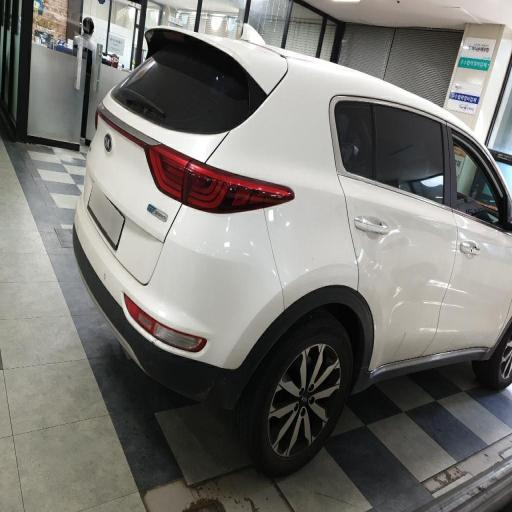normal: (55, 7, 512, 487)
